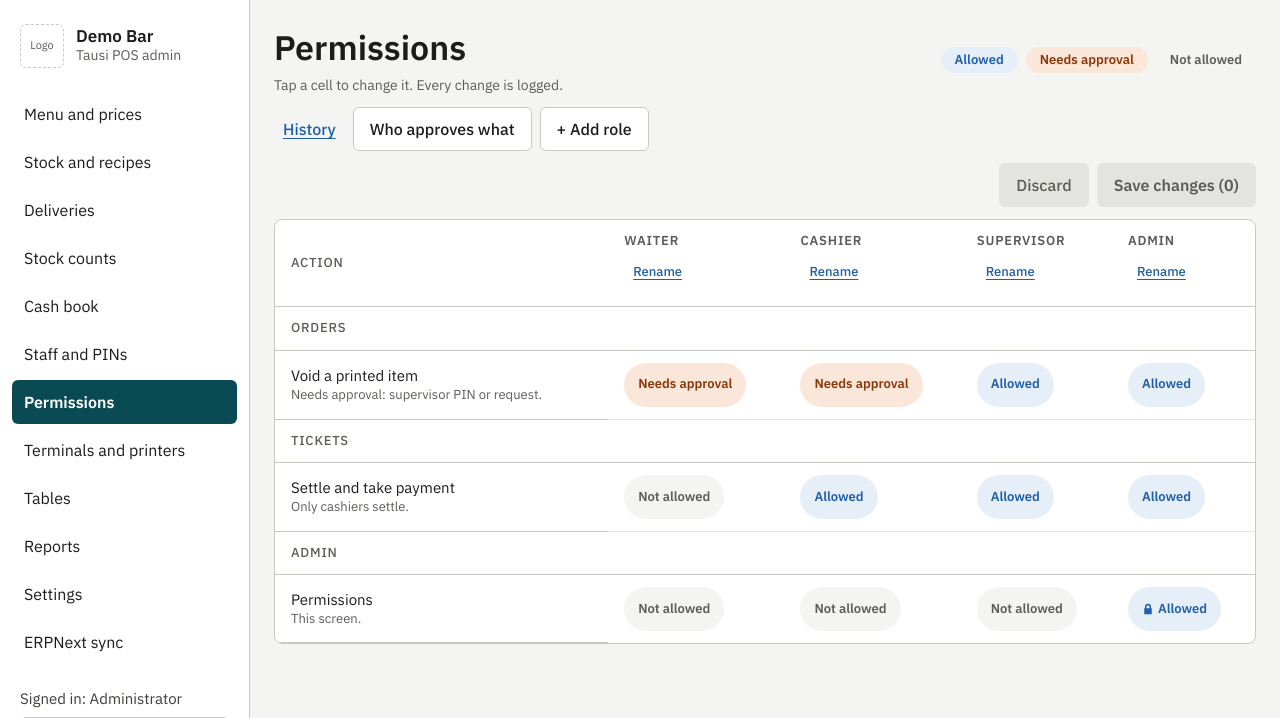
Test: Permissions › adds a role copied from another
The width and height of the screenshot is (1280, 718).
Click the button "+ Add role" at (594, 129), box [540,107,649,151]
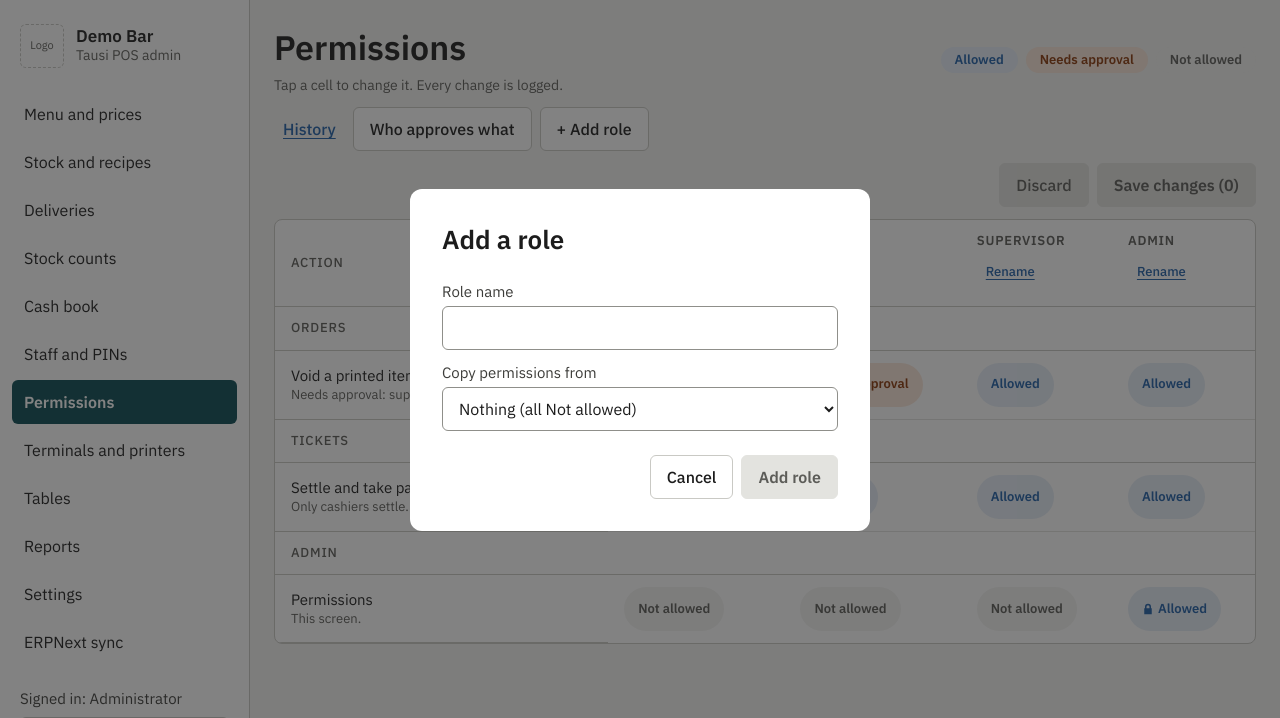
Type "Bar captain" into the field labelled "Role name" at (640, 328), box [442,306,838,350]
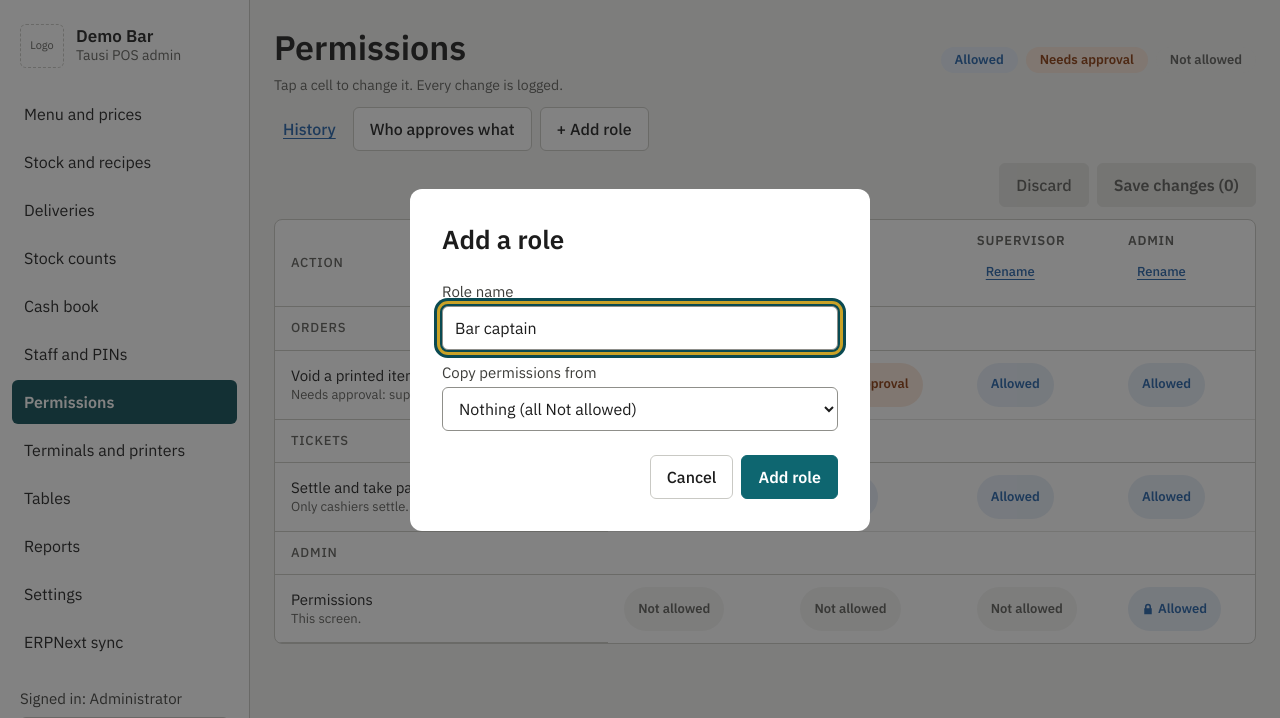
Select "Waiter" in the dropdown labelled "Copy permissions from" at (640, 409), box [442,387,838,431]
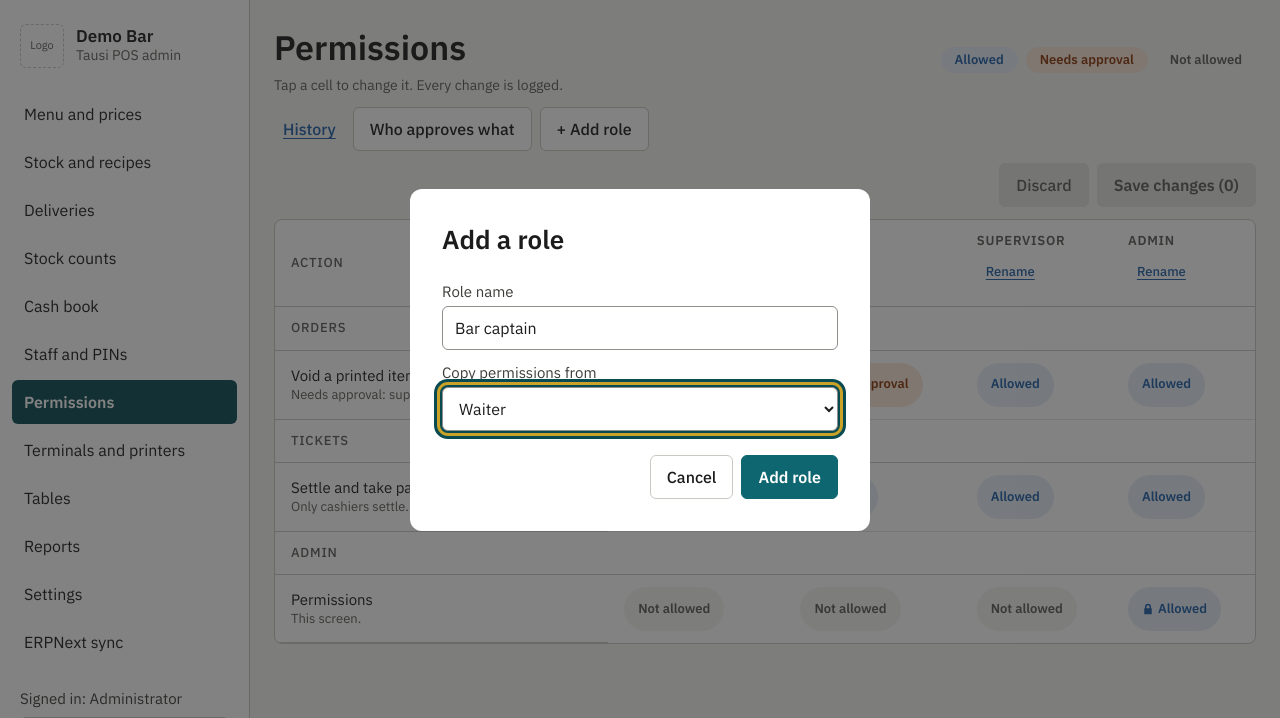
Click the button "Add role" at (790, 477), box [741,455,838,499]
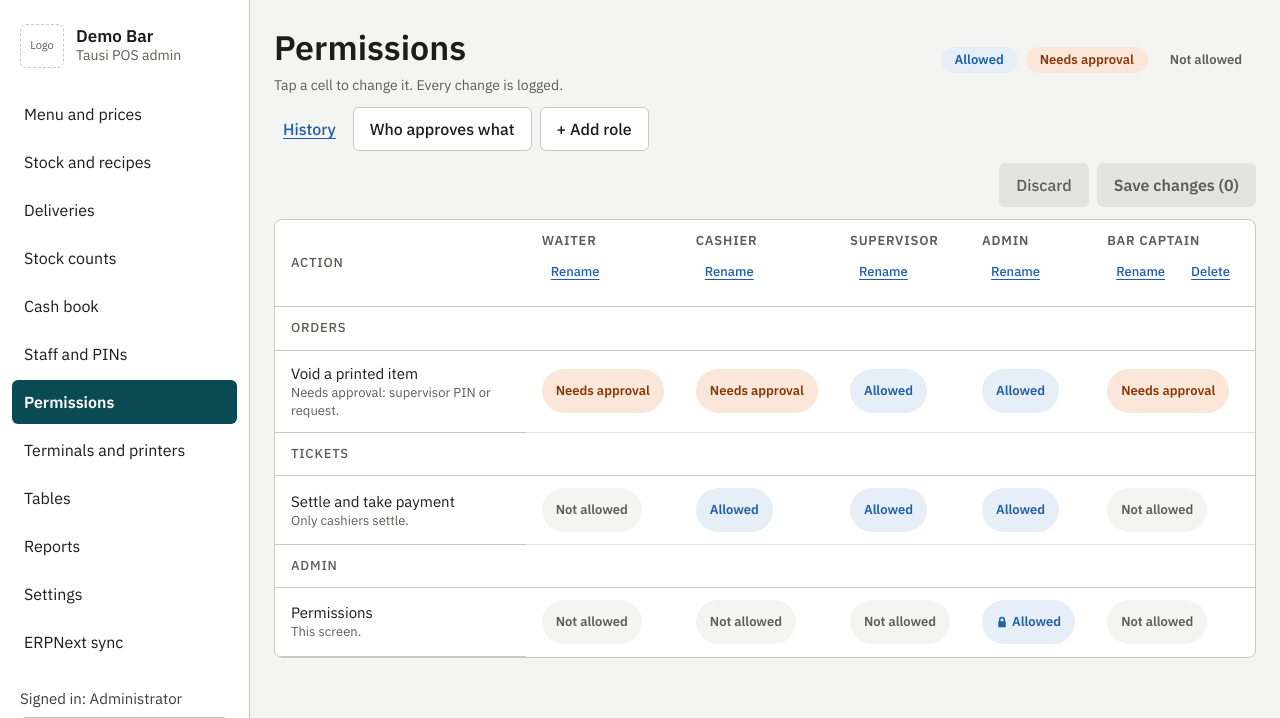
Expected: the column heading "Bar captain Rename Delete" is shown, [1091,220,1255,307]
